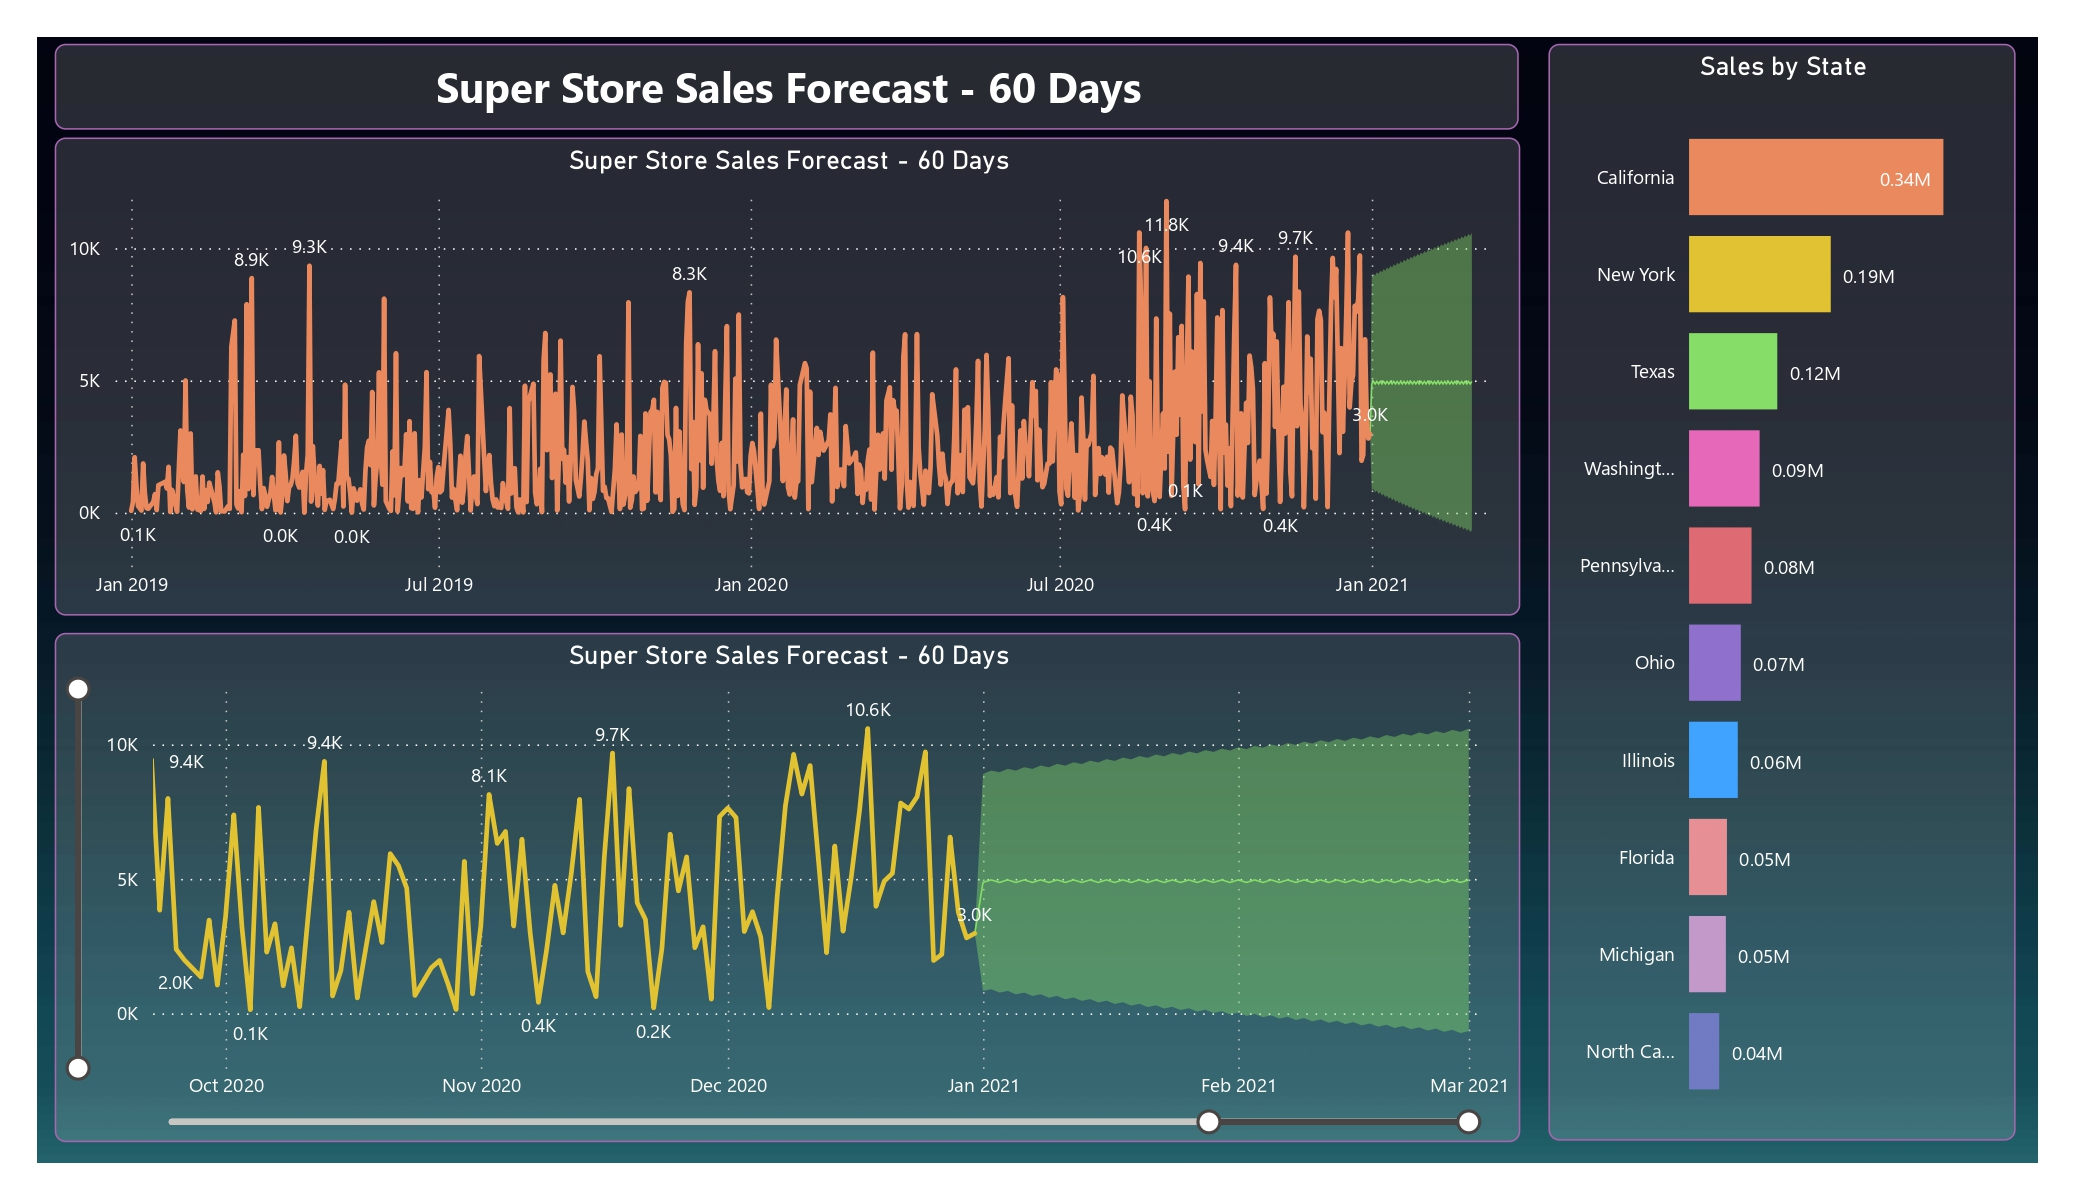

The page's visual inventory and layout, read from the dashboard file:
{"tool":"powerbi","page":{"name":"Page 2","canvas":[1280,720],"ordinal":1},"visuals":[{"type":"lineChart","title":"Super Store Sales Forecast - 60 Days","fields":{"Y":["Sum(Sheet1.Sales)"],"Category":["Sheet1.Order Date.Variation.Date Hierarchy.Year","Sheet1.Order Date.Variation.Date Hierarchy.Quarter","Sheet1.Order Date.Variation.Date Hierarchy.Month","Sheet1.Order Date.Variation.Date Hierarchy.Day"]},"box":[11.4,64.3,937.1,305.7],"z":0},{"type":"lineChart","title":"Super Store Sales Forecast - 60 Days","fields":{"Y":["Sum(Sheet1.Sales)"],"Category":["Sheet1.Order Date.Variation.Date Hierarchy.Year","Sheet1.Order Date.Variation.Date Hierarchy.Quarter","Sheet1.Order Date.Variation.Date Hierarchy.Month","Sheet1.Order Date.Variation.Date Hierarchy.Day"]},"box":[11.4,381.4,937.1,325.7],"z":1000},{"type":"clusteredBarChart","title":"Sales  by State","fields":{"Category":["Sheet1.State"],"Y":["Sum(Sheet1.Sales)"]},"box":[966.9,4.4,298.8,701.2],"z":2000},{"type":"textbox","box":[11.2,4.4,936.9,54.4],"z":3000}]}

Visuals, with their boxes in screenshot pixels (x1, y1, x2, y2):
"Super Store Sales Forecast - 60 Days" lineChart: 55, 138, 1520, 616
"Super Store Sales Forecast - 60 Days" lineChart: 55, 633, 1520, 1142
"Sales  by State" clusteredBarChart: 1548, 44, 2015, 1140
textbox: 55, 44, 1519, 129
